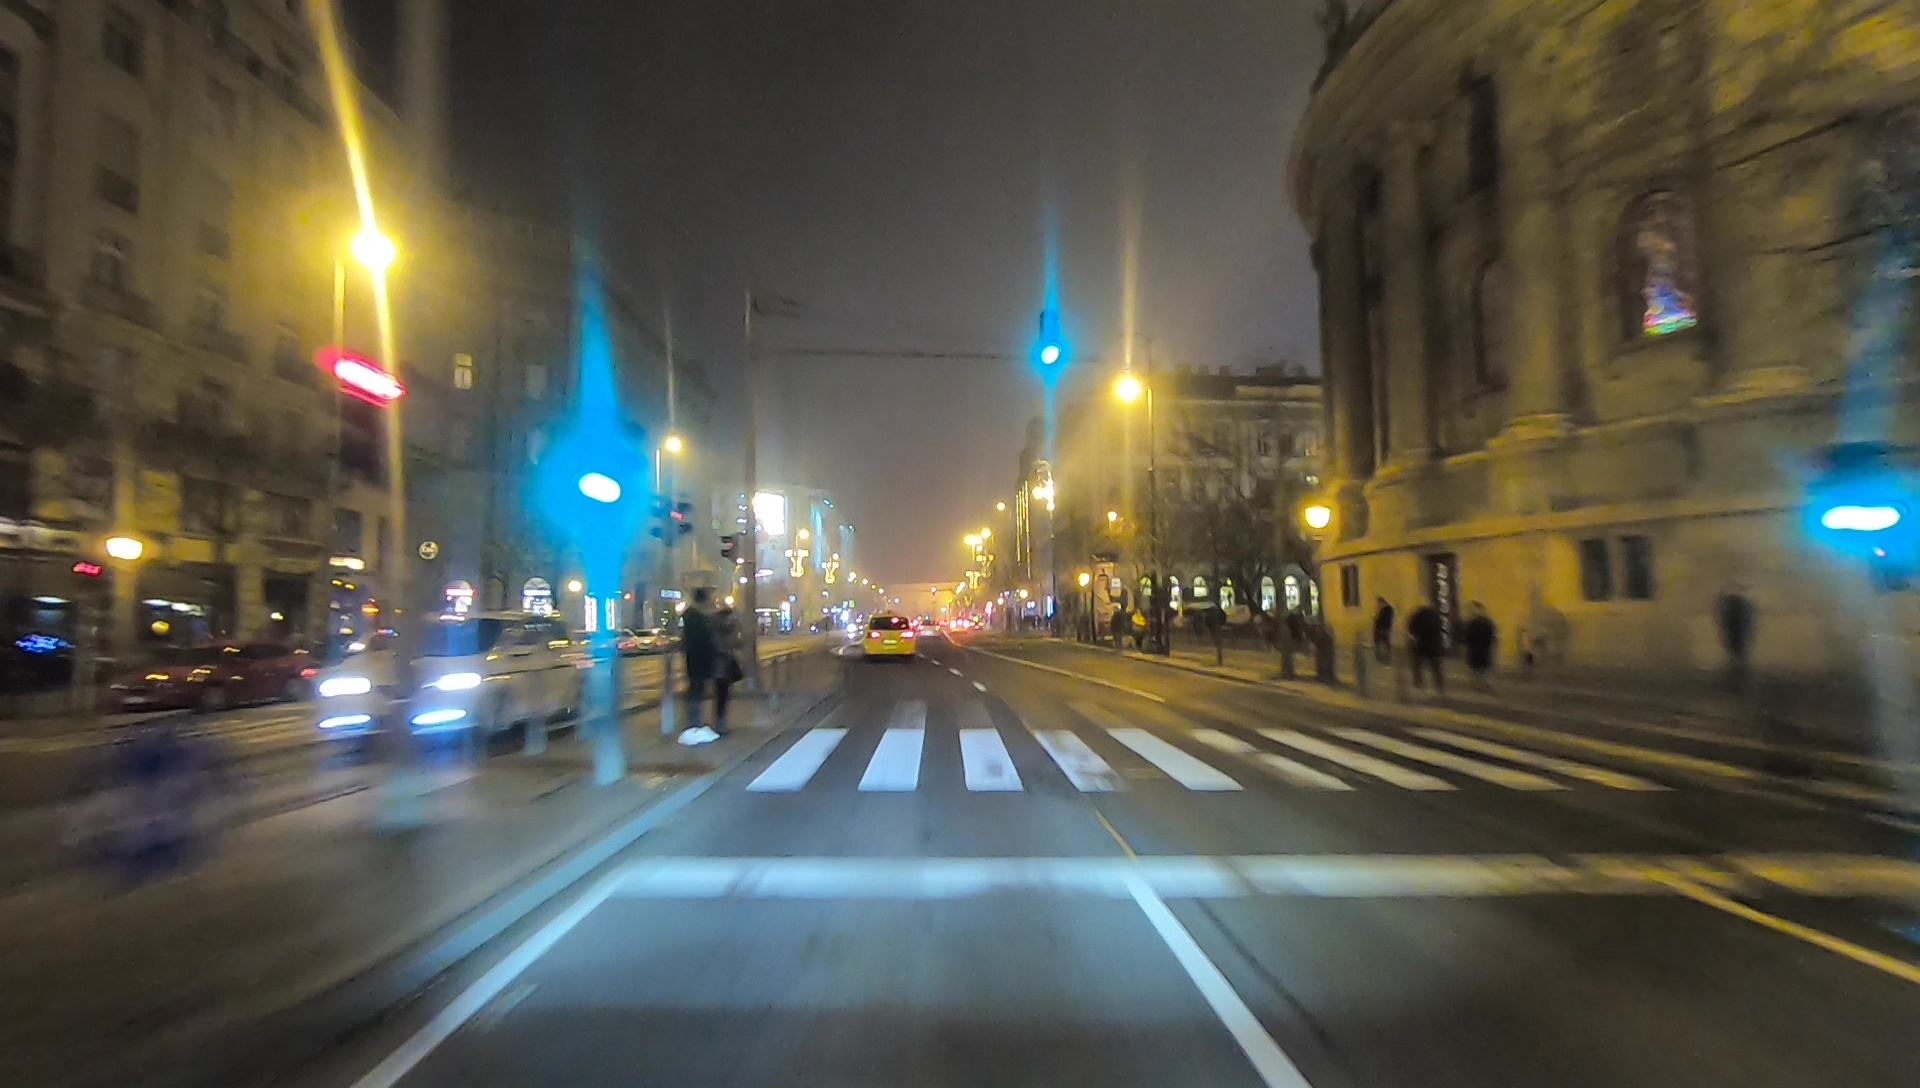person: (678, 586, 710, 745), (708, 597, 741, 739), (1715, 584, 1756, 689), (1408, 593, 1439, 691), (1464, 597, 1497, 682), (1373, 593, 1393, 671), (1132, 606, 1149, 650)
